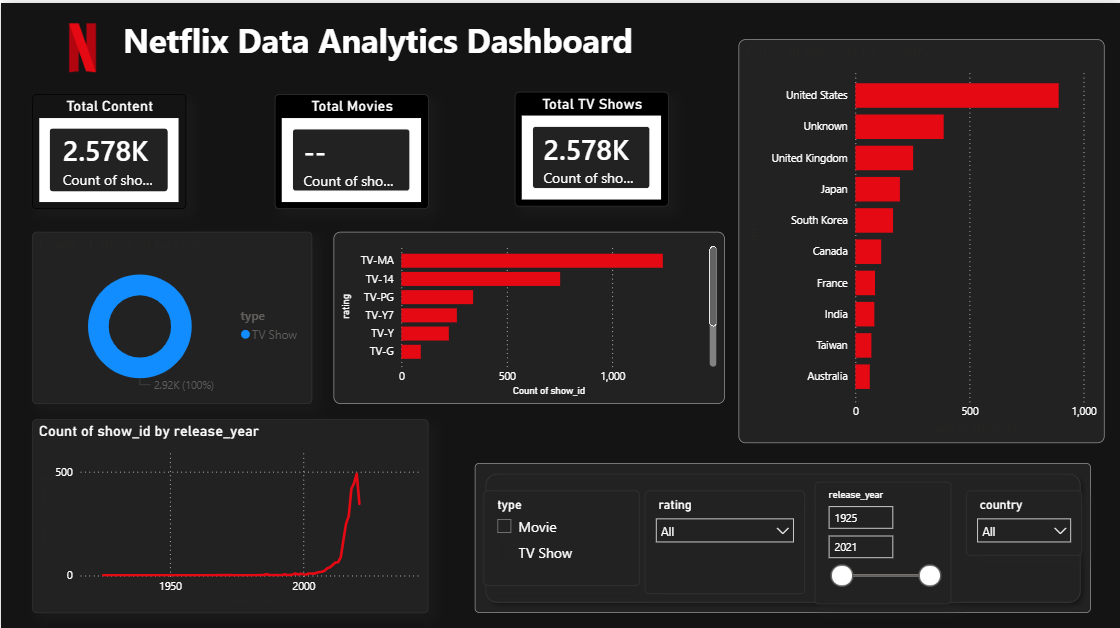

This screenshot's page, from the dashboard's own definition file:
{"tool":"powerbi","page":{"name":"Page 1","canvas":[1280,720],"ordinal":0},"visuals":[{"type":"shape","box":[541.4,525.7,704.3,171.4],"z":0},{"type":"cardVisual","title":"Total Content","fields":{"Data":["Count(cleaned_netflix_data.show_id)"]},"box":[35.7,104.3,175.7,131.4],"z":1000},{"type":"cardVisual","title":"Total Movies","fields":{"Data":["Count(cleaned_netflix_data.show_id)"]},"box":[312.9,104.3,175.7,131.4],"z":2000},{"type":"donutChart","fields":{"Category":["cleaned_netflix_data.type"],"Y":["CountNonNull(cleaned_netflix_data.show_id)"]},"box":[35.7,261.4,320,197.1],"z":3000},{"type":"clusteredBarChart","fields":{"Category":["cleaned_netflix_data.country"],"Y":["CountNonNull(cleaned_netflix_data.show_id)"]},"box":[842.9,41.4,418.6,461.4],"z":4000},{"type":"lineChart","fields":{"Category":["cleaned_netflix_data.release_year"],"Y":["CountNonNull(cleaned_netflix_data.show_id)"]},"box":[35.7,475.7,452.9,221.4],"z":5000},{"type":"clusteredBarChart","fields":{"Category":["cleaned_netflix_data.rating"],"Y":["CountNonNull(cleaned_netflix_data.show_id)"]},"box":[380,261.4,447.1,197.1],"z":6000},{"type":"slicer","fields":{"Values":["cleaned_netflix_data.type"]},"box":[551.4,557.1,178.6,108.6],"z":7000},{"type":"slicer","fields":{"Values":["cleaned_netflix_data.country"]},"box":[1102.9,557.1,132.9,74.3],"z":8000},{"type":"slicer","fields":{"Values":["cleaned_netflix_data.rating"]},"box":[735.7,557.1,182.9,118.6],"z":9000},{"type":"slicer","fields":{"Values":["cleaned_netflix_data.release_year"]},"box":[930,547.1,155.7,140],"z":10000},{"type":"textbox","box":[114.3,12.9,632.9,91.4],"z":11000},{"type":"cardVisual","title":"Total TV Shows","fields":{"Data":["Count(cleaned_netflix_data.show_id)"]},"box":[587.1,101.4,175.7,131.4],"z":12000},{"type":"image","box":[0,0,186,102],"z":12001}]}

Visuals, with their boxes in screenshot pixels (x1, y1, x2, y2), scaled from the page's 1280x720 canvas onto the 1120x628 screenshot:
shape: BBox(474, 459, 1090, 608)
"Total Content" cardVisual: BBox(31, 91, 185, 206)
"Total Movies" cardVisual: BBox(274, 91, 428, 206)
donutChart - cleaned_netflix_data.type x CountNonNull(cleaned_netflix_data.show_id): BBox(31, 228, 311, 400)
clusteredBarChart - cleaned_netflix_data.country x CountNonNull(cleaned_netflix_data.show_id): BBox(738, 36, 1104, 439)
lineChart - cleaned_netflix_data.release_year x CountNonNull(cleaned_netflix_data.show_id): BBox(31, 415, 428, 608)
clusteredBarChart - cleaned_netflix_data.rating x CountNonNull(cleaned_netflix_data.show_id): BBox(332, 228, 724, 400)
slicer - cleaned_netflix_data.type: BBox(482, 486, 639, 581)
slicer - cleaned_netflix_data.country: BBox(965, 486, 1081, 551)
slicer - cleaned_netflix_data.rating: BBox(644, 486, 804, 589)
slicer - cleaned_netflix_data.release_year: BBox(814, 477, 950, 599)
textbox: BBox(100, 11, 654, 91)
"Total TV Shows" cardVisual: BBox(514, 88, 667, 203)
image: BBox(0, 0, 163, 89)
